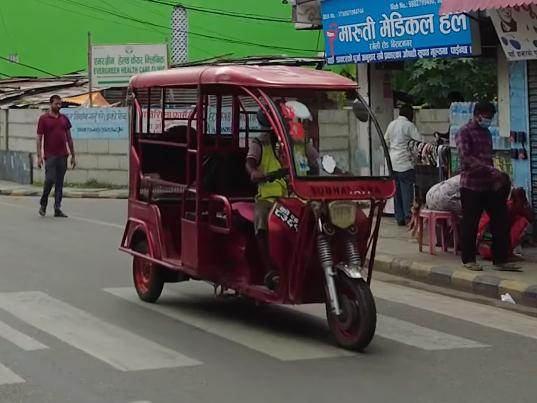e-rickshaw: (109, 62, 398, 361)
